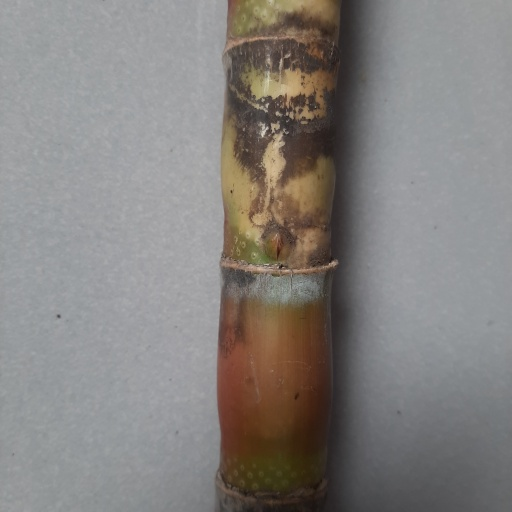Bud: (263, 224, 293, 263)
